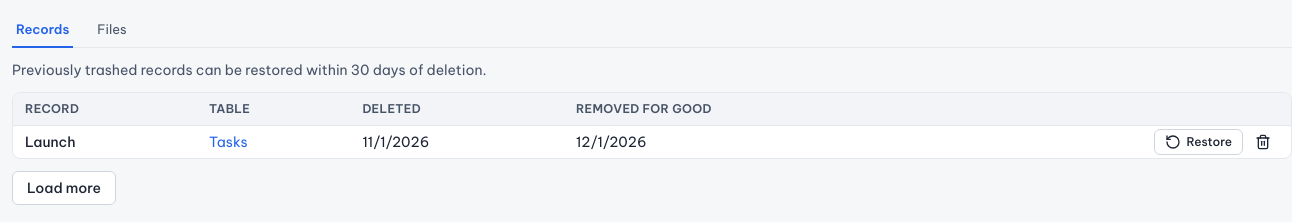
Test: TrashScreen › loads the next page
The width and height of the screenshot is (1292, 222).
Step 1. Click the button "Load more" → x=64, y=188, box [12,170,116,204]
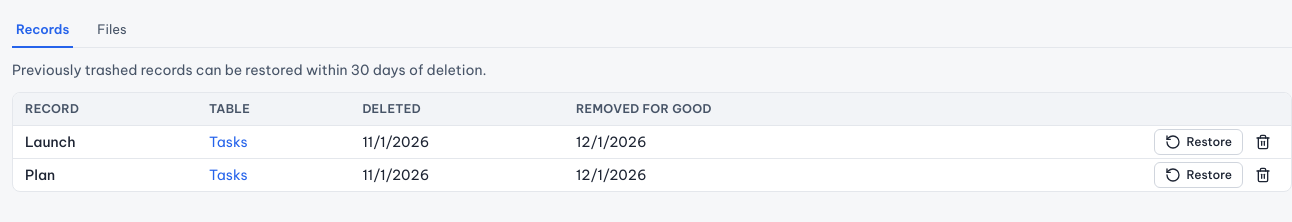
Check: the text "Launch" is shown, box [13,125,197,158]
Check: the text "Plan" is shown, box [13,158,197,190]
Check: the button "Load more" is gone
